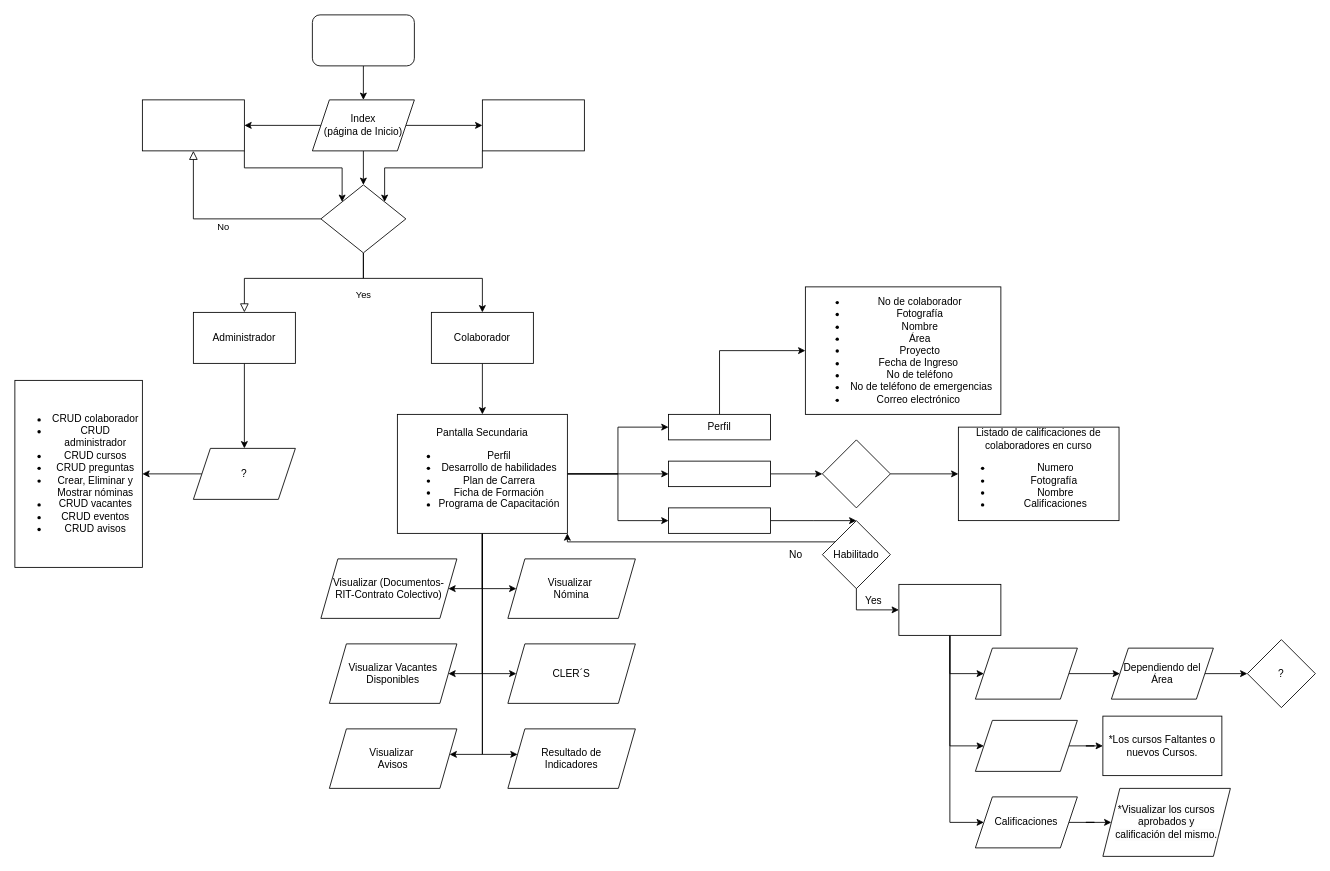
The diagram is 1330 pixels wide and 871 high, and some of its shapes have lost their labels. Here are the shapes that lost their labels. From the top down, the centre of each, then its label:
At (x=363, y=40): "INTRANET CLERPREM".
At (x=193, y=125): "Pagina con información específica (Eventos - Cumpleaños), etc.".
At (x=533, y=125): "Login".
At (x=363, y=218): "Inicio de Sesión".
At (x=719, y=473): "Desarrollo de Habilidades".
At (x=856, y=473): "Who?".
At (x=719, y=520): "Plan de Carrera".
At (x=949, y=609): "-Tipo (Horizontal, vertical, mixto) -Historial( tipo:___, categoría:______)".
At (x=1026, y=673): "Modelos de Carrera".
At (x=1026, y=745): "Curricula de Cursos".
